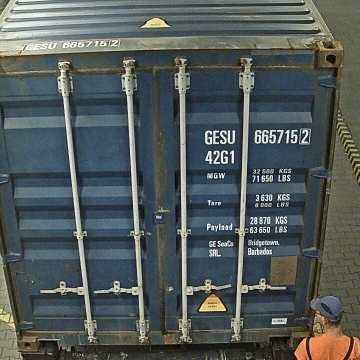serial_id: (205, 128, 310, 143)
